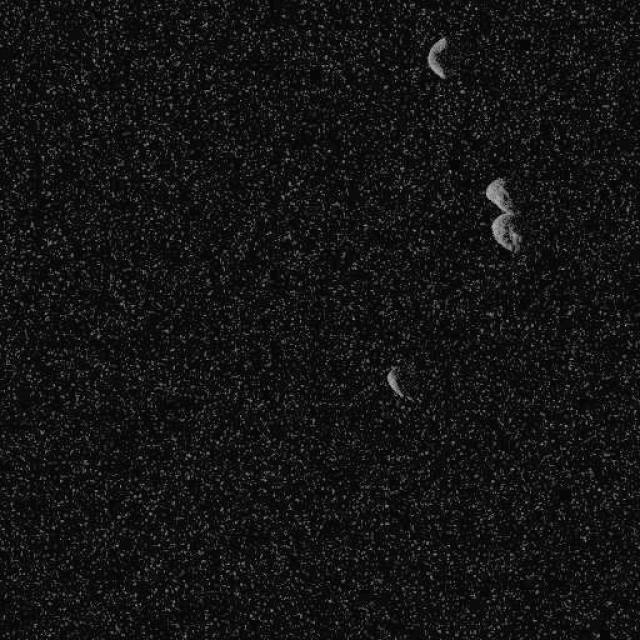D2: (483, 176, 522, 254), (384, 365, 416, 405), (425, 35, 449, 80)
